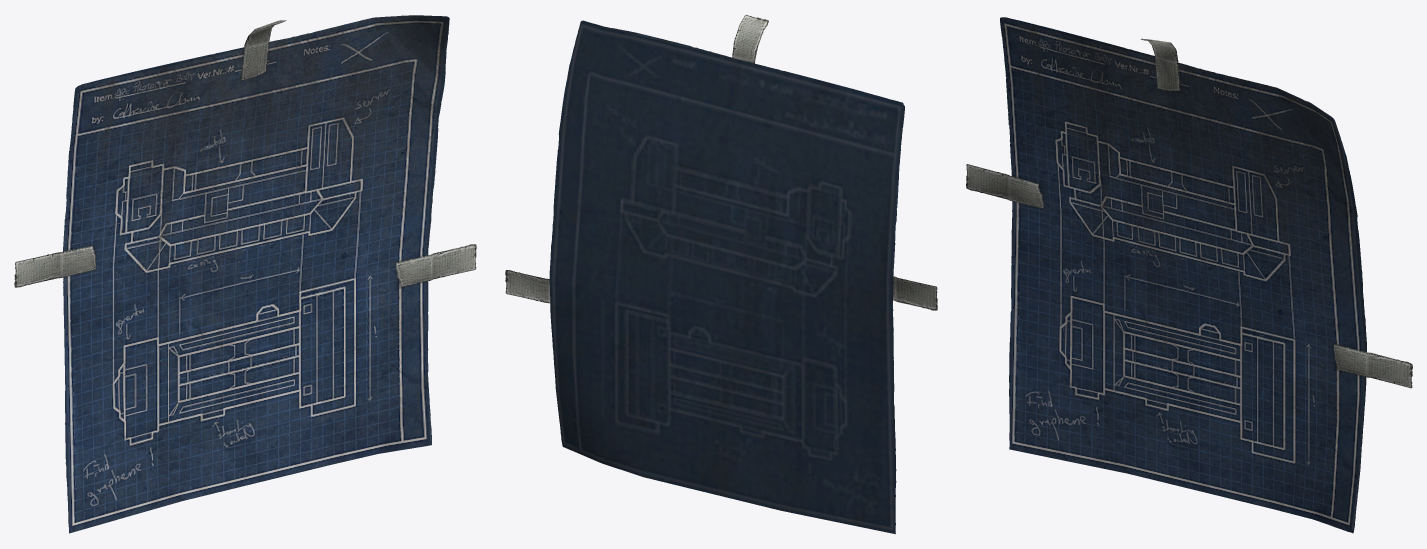
The model's file is 02_05_ark_blueprint02.dae.
3 views of the same model, side by side, from view 1: azimuth 30°, elevation 25°; view 2: azimuth 150°, elevation 25°; view 3: azimuth 330°, elevation 25° (orthographic). The views are drawn at different scales.
Parts seen in each view (by area): view 1: ark_blueprint02; view 2: ark_blueprint02; view 3: ark_blueprint02.
Boxes of the visible parts, x1=… form: ark_blueprint02: x1=14, y1=15, x2=476, y2=533; ark_blueprint02: x1=505, y1=14, x2=937, y2=534; ark_blueprint02: x1=966, y1=17, x2=1412, y2=533.
Bounding box in the file's own units: 0.991 × 1 × 0.1311.
